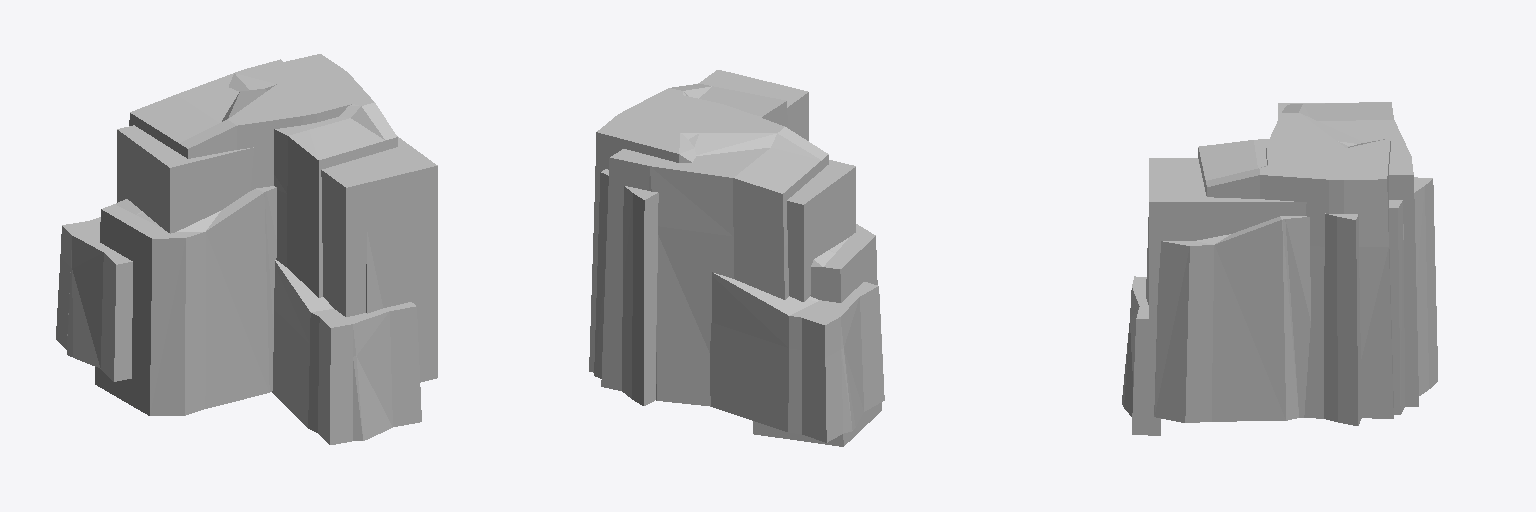
File: cliff_1110_1110.obj
3 views of the same model, side by side, from view 1: azimuth 30°, elevation 25°; view 2: azimuth 150°, elevation 25°; view 3: azimuth 270°, elevation 25° (orthographic).
Visible parts, largest first — view 1: tile_1110_1110; view 2: tile_1110_1110; view 3: tile_1110_1110.
Boxes of the visible parts, x1=… form: tile_1110_1110: x1=56, y1=54, x2=437, y2=444; tile_1110_1110: x1=589, y1=70, x2=884, y2=446; tile_1110_1110: x1=1122, y1=102, x2=1437, y2=435.
Size of the model in its own units: 2.7 by 2.52 by 2.7.